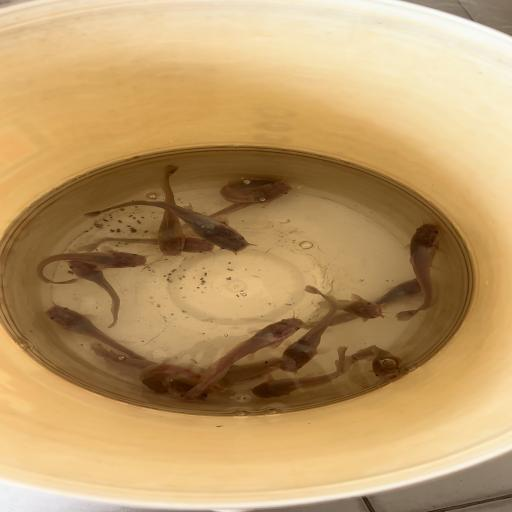lele: (184, 316, 306, 398), (82, 199, 256, 254), (86, 341, 210, 402), (43, 304, 159, 366), (305, 278, 421, 332), (248, 345, 349, 402), (278, 285, 340, 375), (395, 222, 442, 322), (34, 250, 148, 286), (68, 257, 122, 329), (139, 361, 237, 396), (158, 164, 186, 257), (75, 236, 216, 254), (212, 354, 283, 385), (216, 179, 294, 206), (315, 294, 388, 322), (344, 343, 401, 378), (200, 202, 255, 222)
